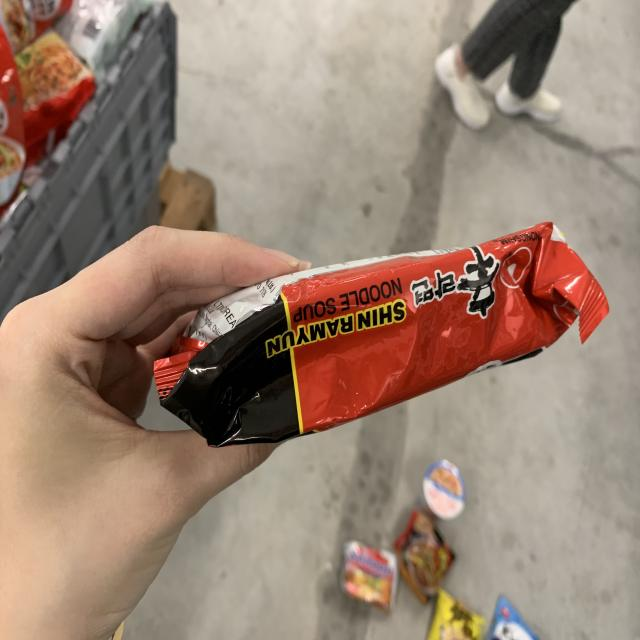object_name: (163, 273, 577, 431)
